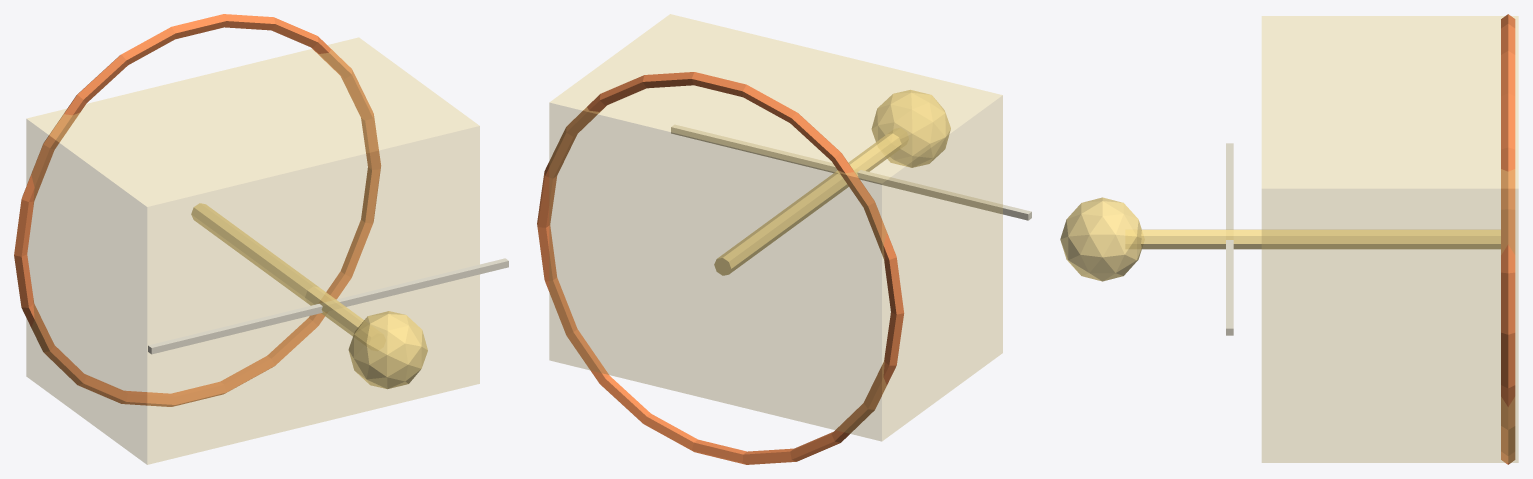
The model's file is 05_dynamic_camera_trigger.glb.
The picture shows the model from 3 angles, left to right: view 1: azimuth 30°, elevation 25°; view 2: azimuth 150°, elevation 25°; view 3: azimuth 270°, elevation 25°; orthographic projection. The views are drawn at different scales.
Parts seen in each view (by area): view 1: camera_trigger_volume, combat_start_ring, focus_target, focus_target_pole, camera_axis; view 2: camera_trigger_volume, combat_start_ring, focus_target, focus_target_pole, camera_axis; view 3: camera_trigger_volume, focus_target_pole, combat_start_ring, focus_target, camera_axis.
Part boxes in pixels (left/top/right/bottom): camera_trigger_volume: left=26, top=37, right=479, bottom=464; combat_start_ring: left=14, top=14, right=380, bottom=406; focus_target: left=348, top=311, right=427, bottom=389; focus_target_pole: left=191, top=203, right=364, bottom=336; camera_axis: left=148, top=258, right=508, bottom=354; camera_trigger_volume: left=549, top=14, right=1002, bottom=441; combat_start_ring: left=537, top=72, right=904, bottom=464; focus_target: left=871, top=90, right=950, bottom=167; focus_target_pole: left=714, top=133, right=901, bottom=275; camera_axis: left=671, top=124, right=1031, bottom=220; camera_trigger_volume: left=1262, top=16, right=1518, bottom=462; focus_target_pole: left=1141, top=229, right=1500, bottom=249; combat_start_ring: left=1501, top=14, right=1515, bottom=464; focus_target: left=1060, top=197, right=1141, bottom=281; camera_axis: left=1226, top=143, right=1233, bottom=335.
Bounding box in the file's own units: 1.49 × 1.47 × 1.51.
